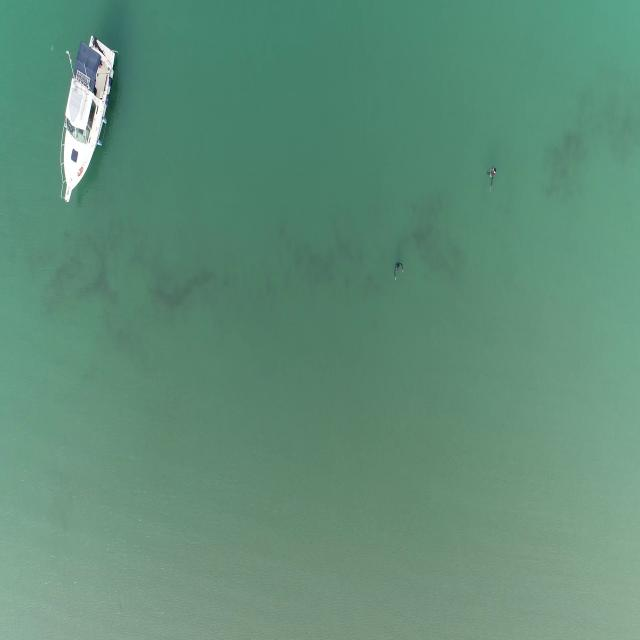boat: (58, 34, 119, 205)
person: (391, 260, 405, 282), (487, 163, 498, 191)
